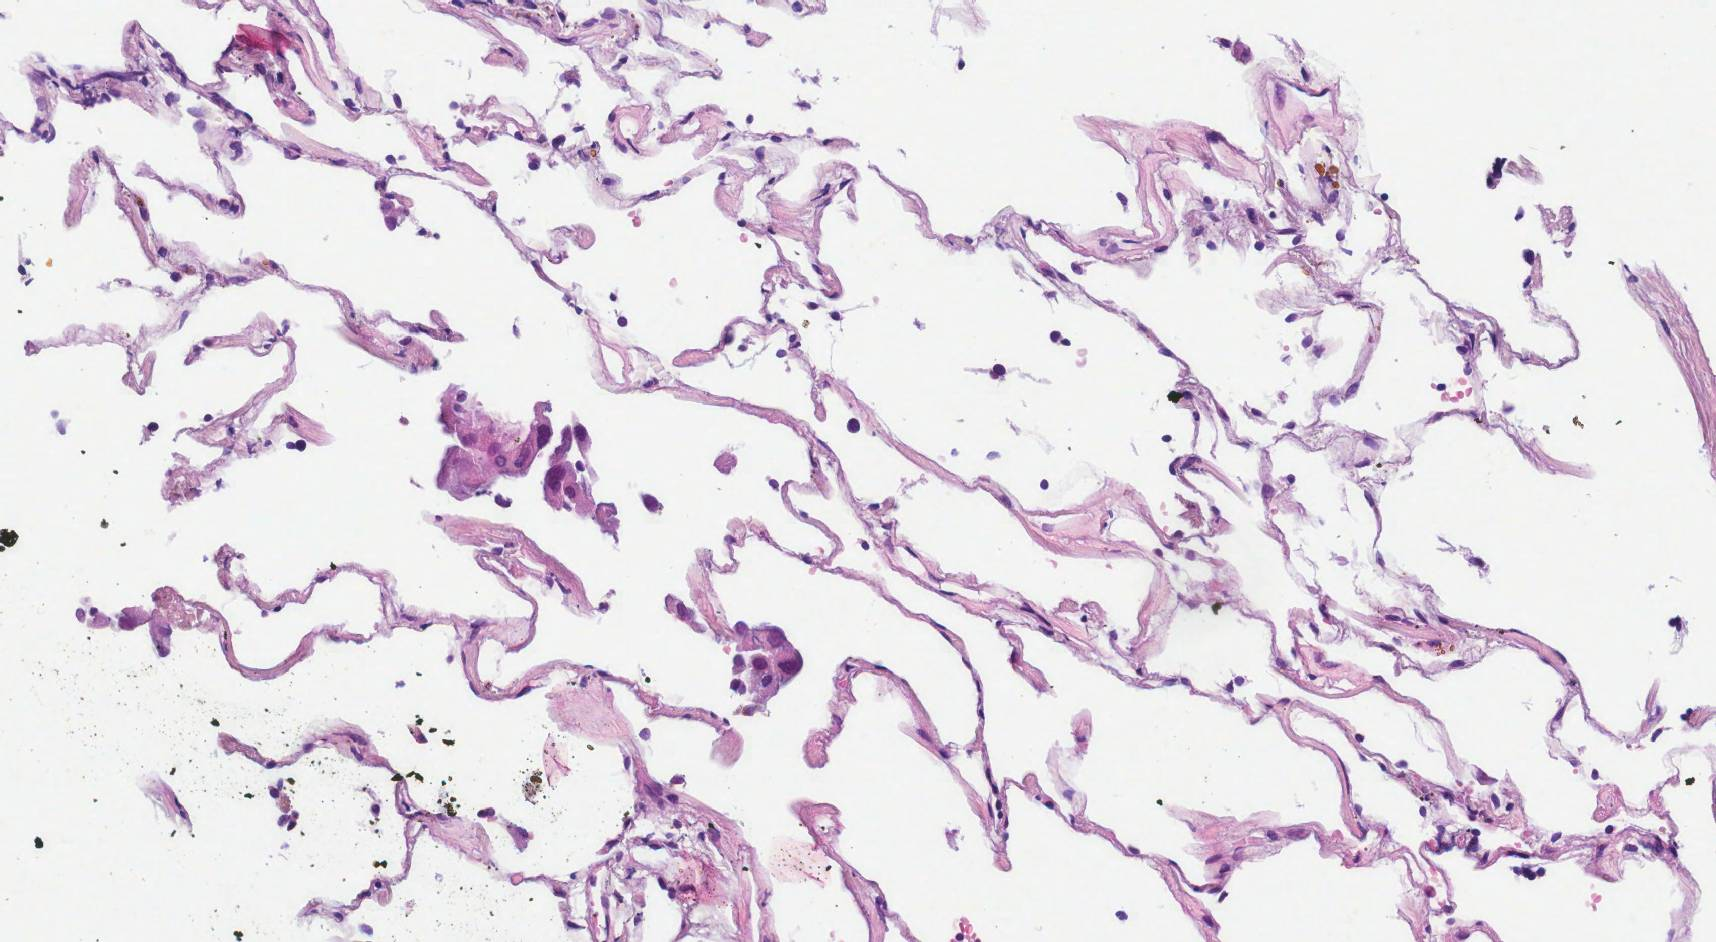stas: (431, 387, 619, 540), (728, 620, 802, 718)
